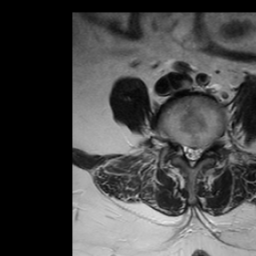CCS_normal: (188, 138, 195, 171)
LFS_stenosis: (203, 134, 212, 159)
LLS_stenosis: (195, 139, 203, 167)
RFS_severe_stenosis: (172, 132, 180, 157)
RLS_stenosis: (180, 136, 188, 164)
